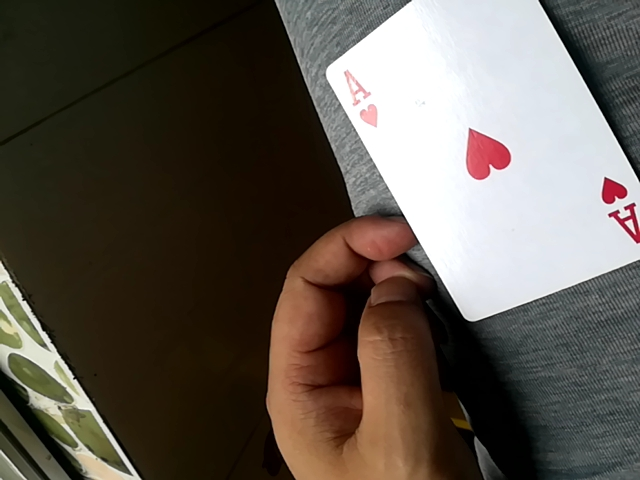hx a: (325, 7, 639, 333)
